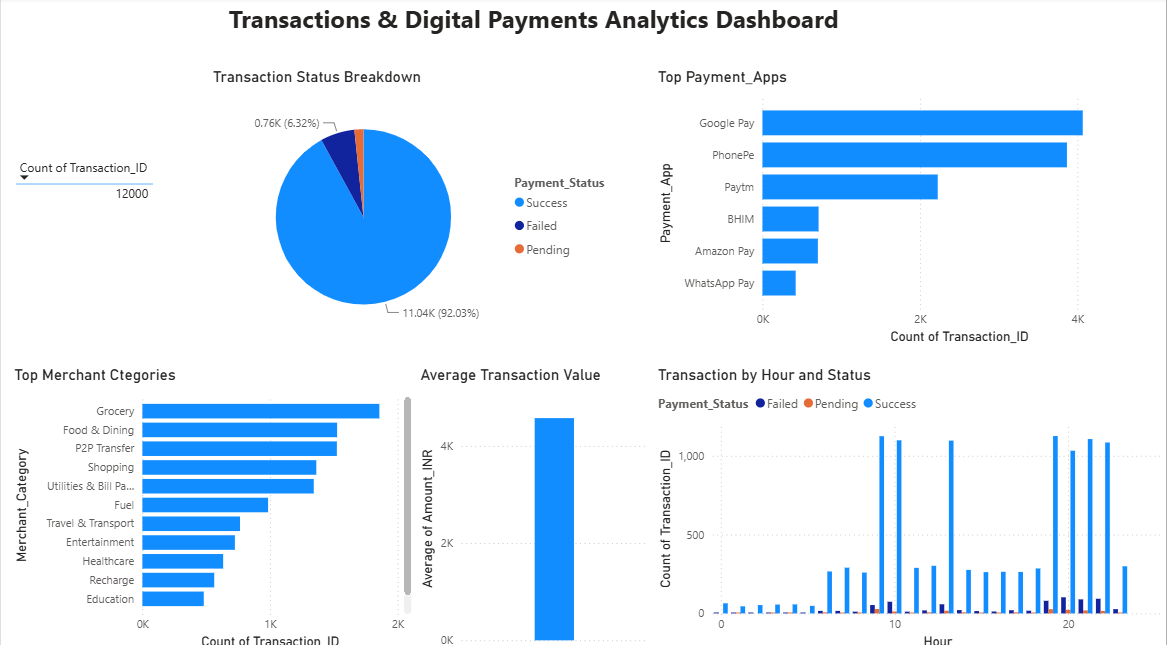

This screenshot's page, from the dashboard's own definition file:
{"tool":"powerbi","page":{"name":"Page 1","canvas":[1280,720],"ordinal":0},"visuals":[{"type":"tableEx","fields":{"Values":["UPI Transactions Dataset.Transaction_ID"]},"box":[9.6,171.5,279.9,188],"z":0},{"type":"pieChart","title":"Transaction Status Breakdown","fields":{"Category":["UPI Transactions Dataset.Payment_Status"],"Y":["CountNonNull(UPI Transactions Dataset.Transaction_ID)"]},"box":[227.8,76.8,455.6,308.7],"z":1000},{"type":"clusteredBarChart","title":"Top Payment_Apps","fields":{"Category":["UPI Transactions Dataset.Payment_App"],"Y":["CountNonNull(UPI Transactions Dataset.Transaction_ID)"]},"box":[716.3,76.8,564,308.7],"z":2000},{"type":"clusteredColumnChart","title":"Transaction by Hour and Status","fields":{"Category":["UPI Transactions Dataset.Hour"],"Y":["CountNonNull(UPI Transactions Dataset.Transaction_ID)"],"Series":["UPI Transactions Dataset.Payment_Status"]},"box":[716.3,404.8,564,315.6],"z":3000},{"type":"clusteredColumnChart","title":"Average Transaction Value","fields":{"Y":["Avg(UPI Transactions Dataset.Amount_INR)"]},"box":[455.6,404.8,260.7,315.6],"z":4000},{"type":"clusteredBarChart","title":"Top Merchant Ctegories","fields":{"Category":["UPI Transactions Dataset.Merchant_Category"],"Y":["CountNonNull(UPI Transactions Dataset.Transaction_ID)"]},"box":[9.6,404.8,446,315.6],"z":5000},{"type":"textbox","box":[9.6,0,1188.3,65.9],"z":6000}]}

Visuals, with their boxes in screenshot pixels (x1, y1, x2, y2), scaled from the page's 1280x720 canvas onto the 1167x645 screenshot:
tableEx - UPI Transactions Dataset.Transaction_ID: bbox=(9, 154, 264, 322)
"Transaction Status Breakdown" pieChart: bbox=(208, 69, 623, 345)
"Top Payment_Apps" clusteredBarChart: bbox=(653, 69, 1166, 345)
"Transaction by Hour and Status" clusteredColumnChart: bbox=(653, 363, 1166, 644)
"Average Transaction Value" clusteredColumnChart: bbox=(415, 363, 653, 644)
"Top Merchant Ctegories" clusteredBarChart: bbox=(9, 363, 415, 644)
textbox: bbox=(9, 0, 1092, 59)
